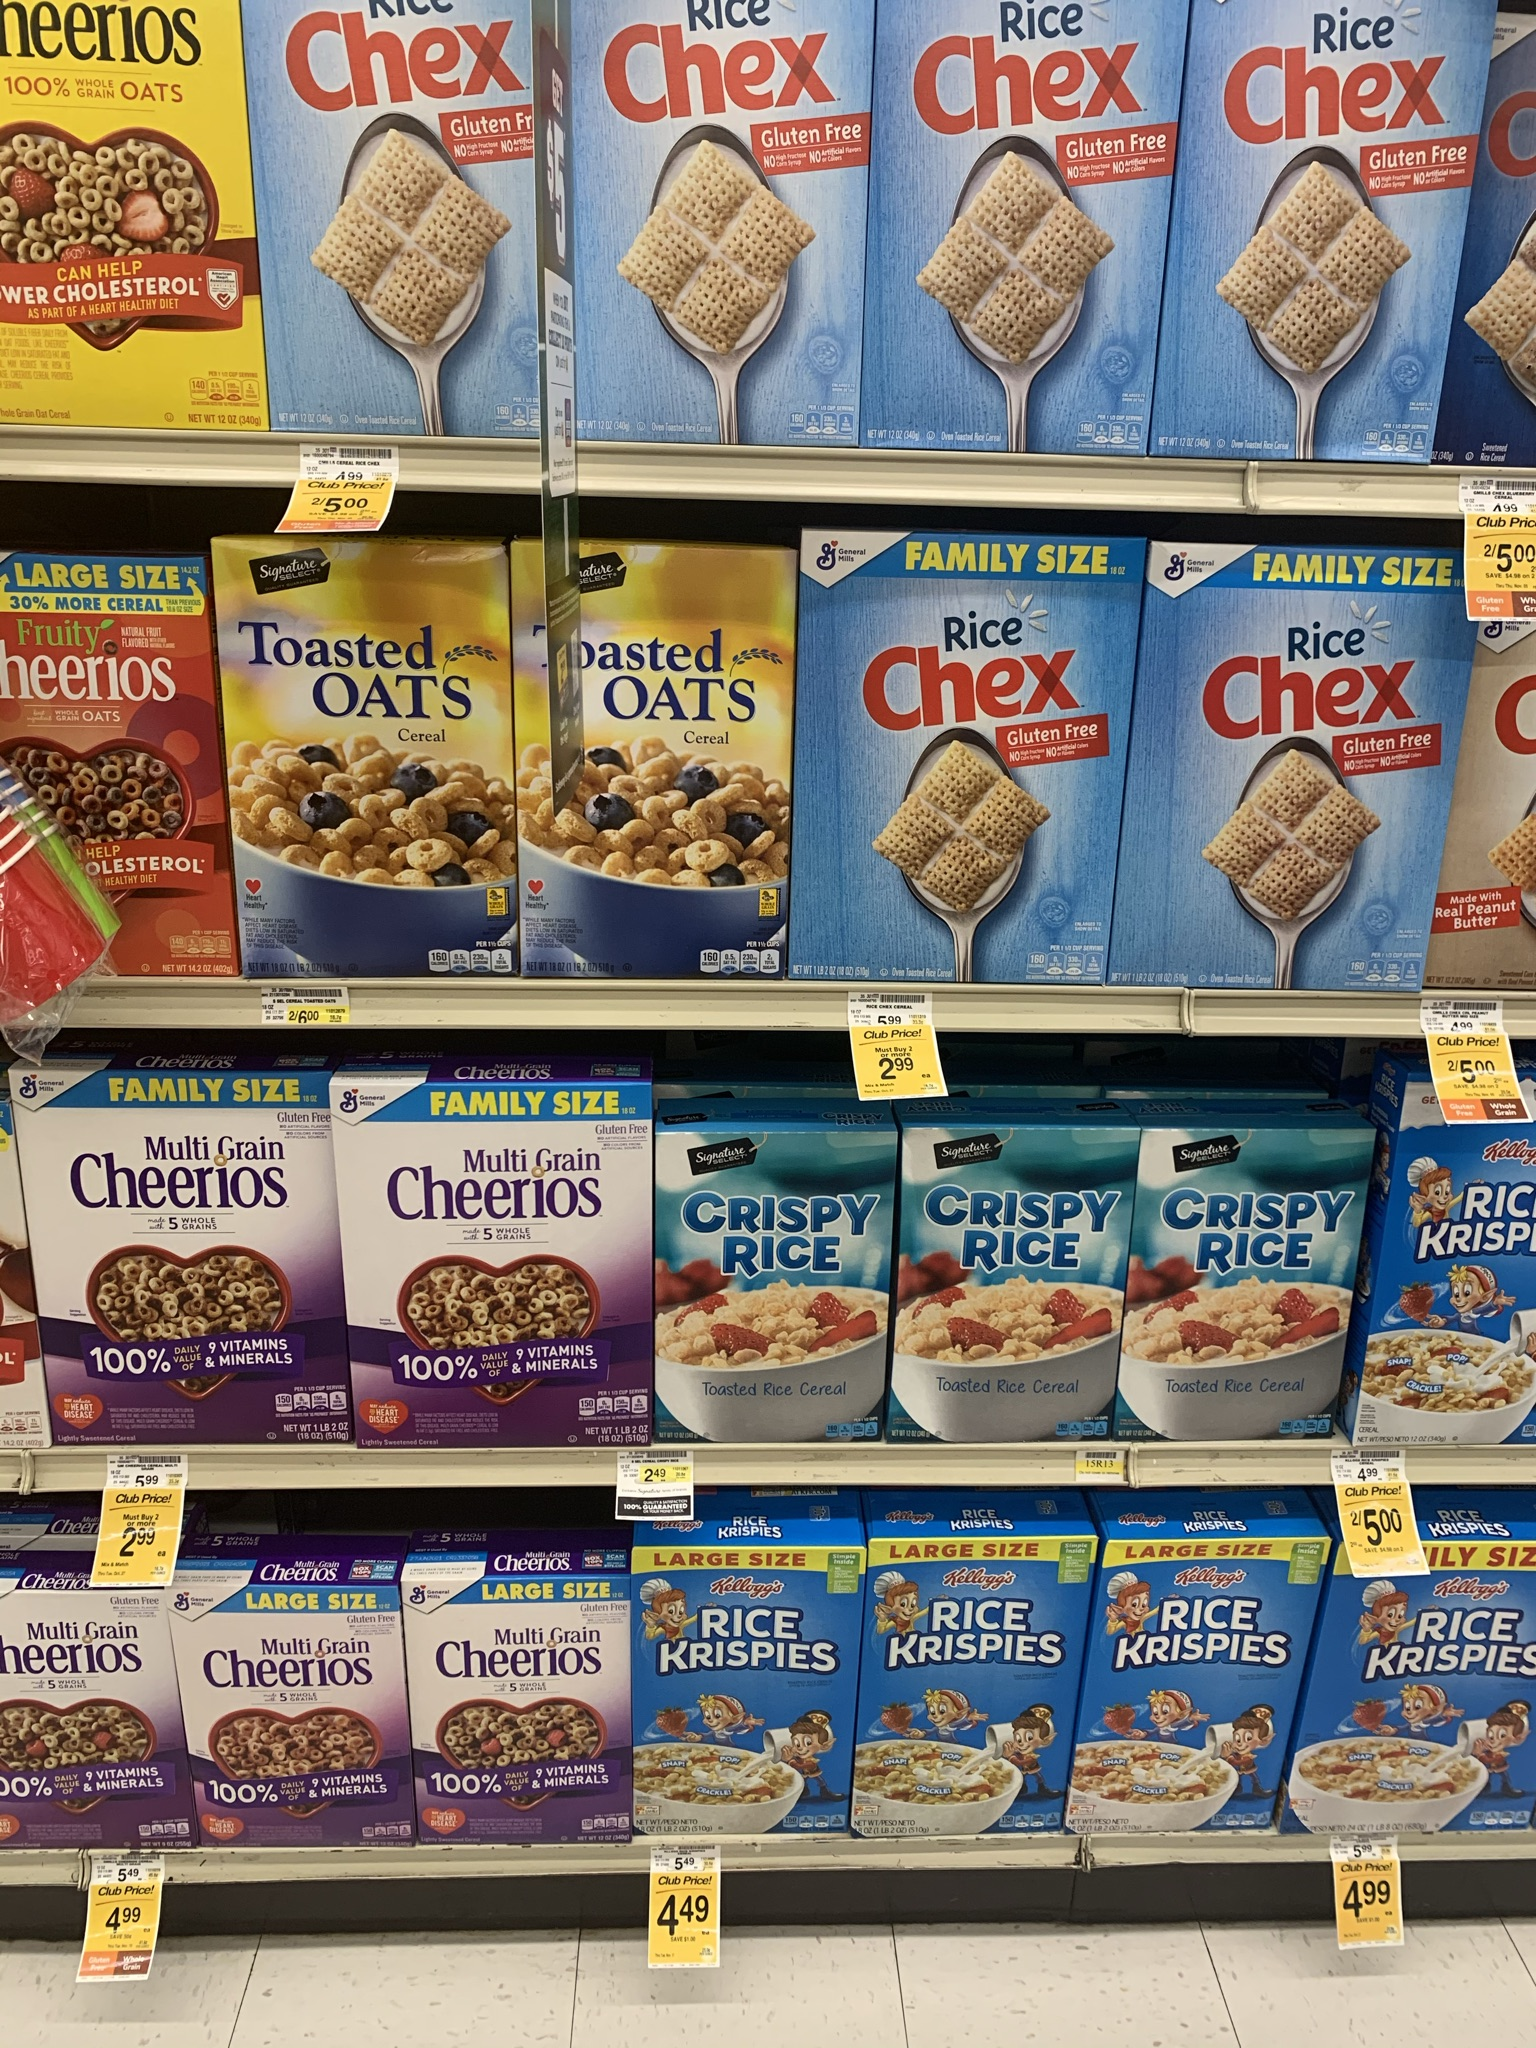cereal: (1167, 2, 1478, 485), (863, 2, 1175, 474), (805, 531, 1118, 987), (211, 540, 529, 977), (1142, 535, 1438, 985), (11, 1071, 345, 1442), (248, 6, 531, 440), (566, 2, 842, 443), (336, 1084, 663, 1451), (2, 2, 269, 432), (529, 552, 795, 974), (2, 568, 227, 976), (657, 1130, 878, 1455), (899, 1130, 1120, 1455), (1134, 1114, 1346, 1447), (176, 1587, 416, 1853), (637, 1551, 850, 1851), (1339, 1542, 1536, 1846), (411, 1579, 631, 1851), (871, 1542, 1063, 1851), (1376, 1077, 1536, 1434), (1104, 1543, 1279, 1851), (2, 1588, 176, 1840)
